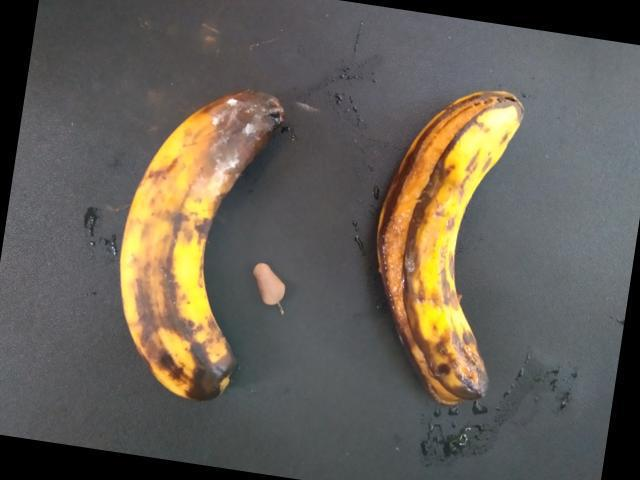rotten: (98, 88, 306, 419), (357, 89, 538, 432)
